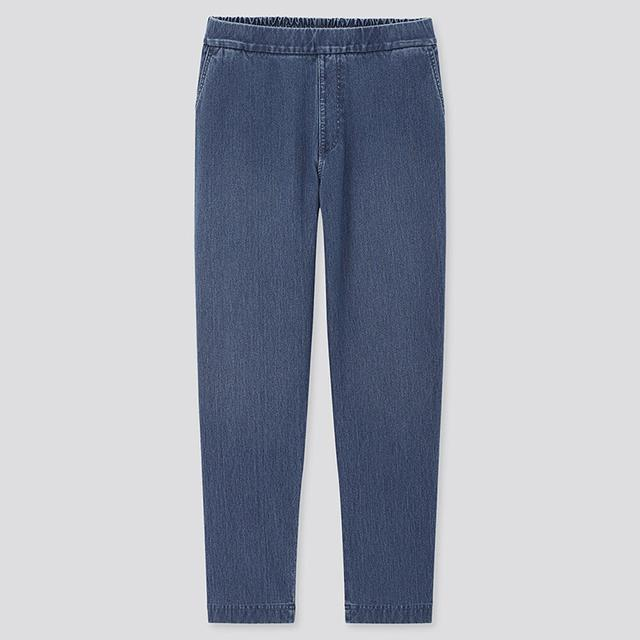long-pants: (195, 17, 449, 628)
